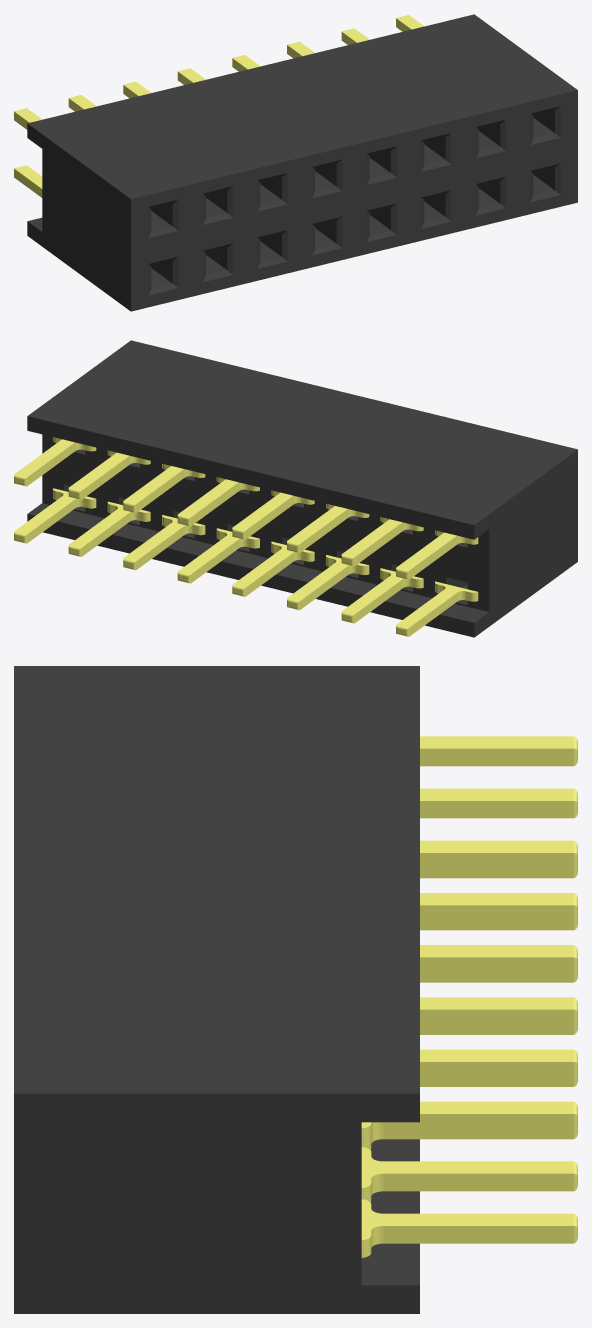
Rendered from 16 pin connector.obj.
3 views of the same model, one above another, from view 1: azimuth 30°, elevation 25°; view 2: azimuth 150°, elevation 25°; view 3: azimuth 270°, elevation 25° (orthographic). The views are drawn at different scales.
Parts seen in each view (by area): view 1: 16_pin_connector; view 2: 16_pin_connector; view 3: 16_pin_connector.
Boxes of the visible parts, x1,y1,x2,y2 form: 16_pin_connector: (14, 14, 577, 311); 16_pin_connector: (14, 340, 577, 637); 16_pin_connector: (14, 666, 577, 1313).
Size of the model in its own units: 0.0218 by 0.00523 by 0.0121.
